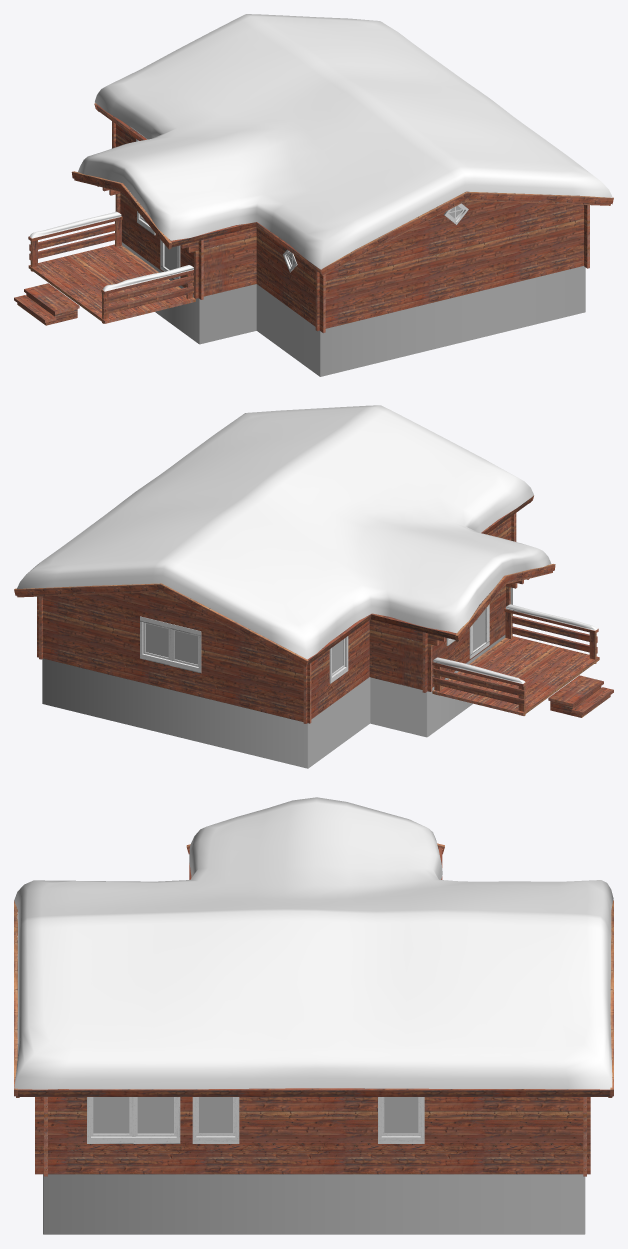
Rendered from MiddleCabin01.FBX.
3 renders of one model, top to bottom at view 1: azimuth 30°, elevation 25°; view 2: azimuth 150°, elevation 25°; view 3: azimuth 270°, elevation 25°, orthographic. The views are drawn at different scales.
Visible parts, largest first — view 1: Snow, Walls, Foundation, Porch, stair, porchsnow01, porchsnow02; view 2: Snow, Walls, Foundation, Porch, stair, porchsnow01, porchsnow02; view 3: Snow, Walls, Foundation.
Boxes of the visible parts, box(x1,y1,x2,y2) form: Snow: box(78, 14, 612, 269); Walls: box(71, 103, 613, 332); Foundation: box(122, 242, 585, 376); Porch: box(28, 216, 195, 323); stair: box(14, 283, 79, 325); porchsnow01: box(29, 211, 121, 238); porchsnow02: box(102, 265, 193, 291); Snow: box(17, 405, 551, 659); Walls: box(14, 495, 555, 723); Foundation: box(42, 587, 512, 768); Porch: box(432, 608, 599, 715); stair: box(548, 675, 613, 717); porchsnow01: box(433, 657, 525, 683); porchsnow02: box(506, 604, 597, 630); Snow: box(14, 797, 613, 1089); Walls: box(14, 843, 613, 1176); Foundation: box(43, 1174, 585, 1234).
Size of what is drawn, in the model's own units: 1.71 by 0.6291 by 1.43.
